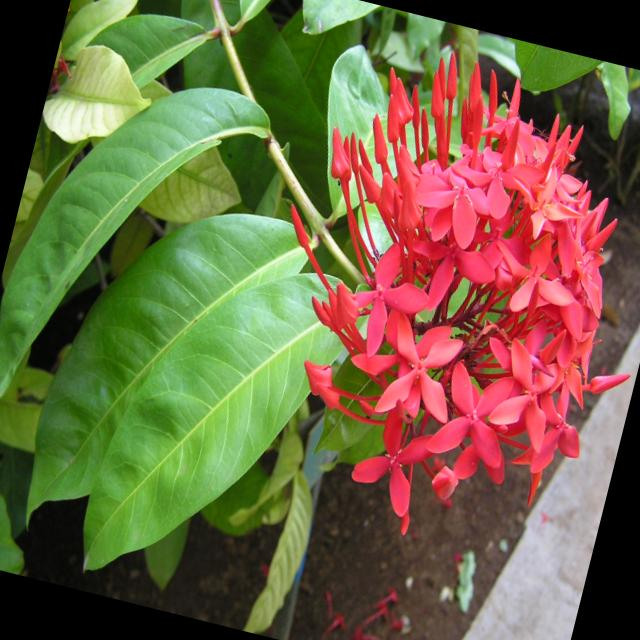Chinese-Ixora: (228, 35, 640, 551)
